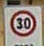limite 30: (8, 8, 36, 35)
